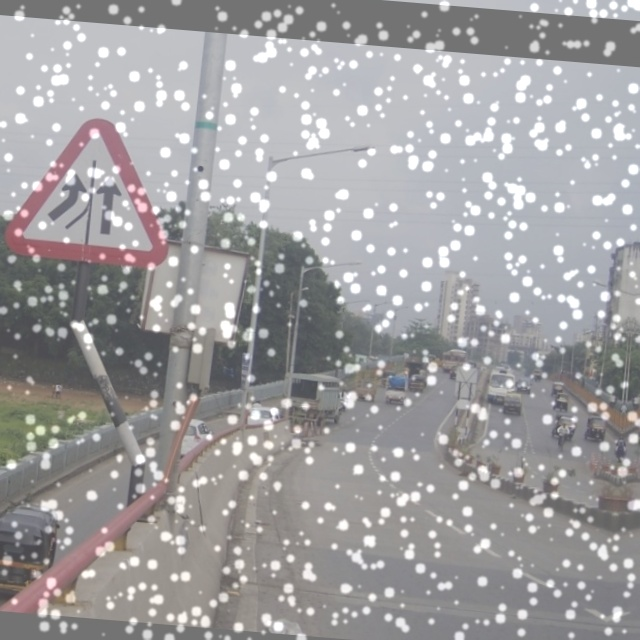Merge_Traffic_Ahead: (21, 102, 158, 276)
